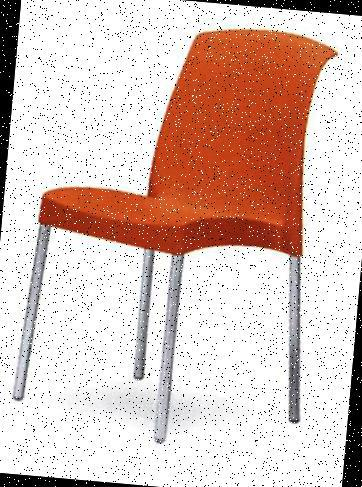Silla: (0, 7, 334, 460)
